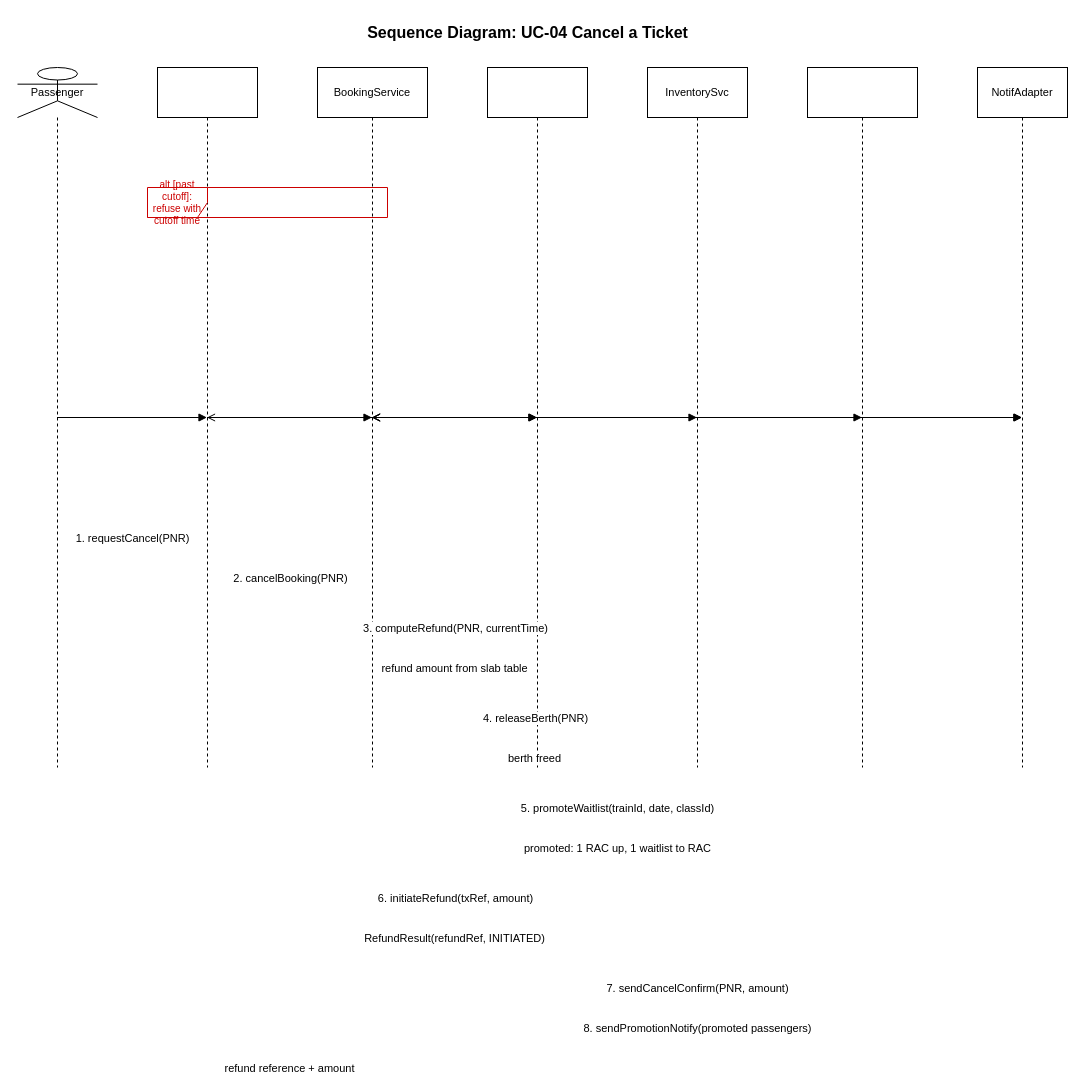
Image size: 1085x1091. Some labels were removed from this diagram. The box of each missing label's shape, as (x1, y1, x2, y2) in pixels:
AllocationEngine: (806, 66, 918, 768)
PassengerWeb: (156, 66, 258, 768)
RefundService: (486, 66, 588, 768)
